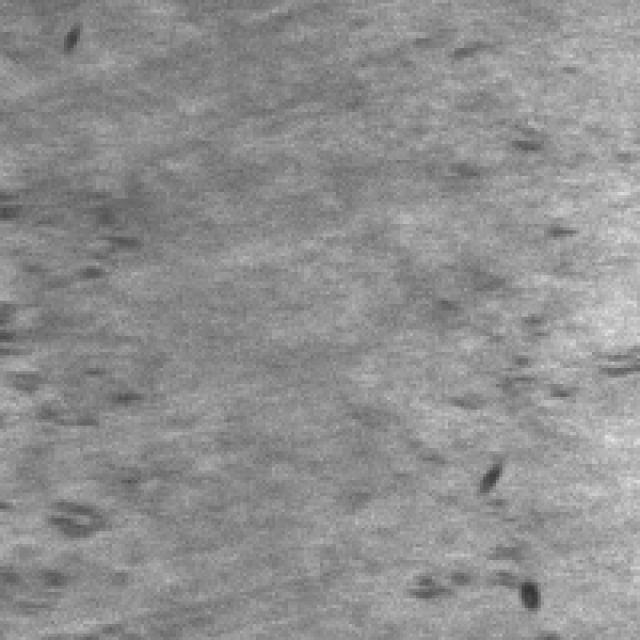rolled-in_scale: (397, 32, 566, 611), (0, 157, 173, 627)
